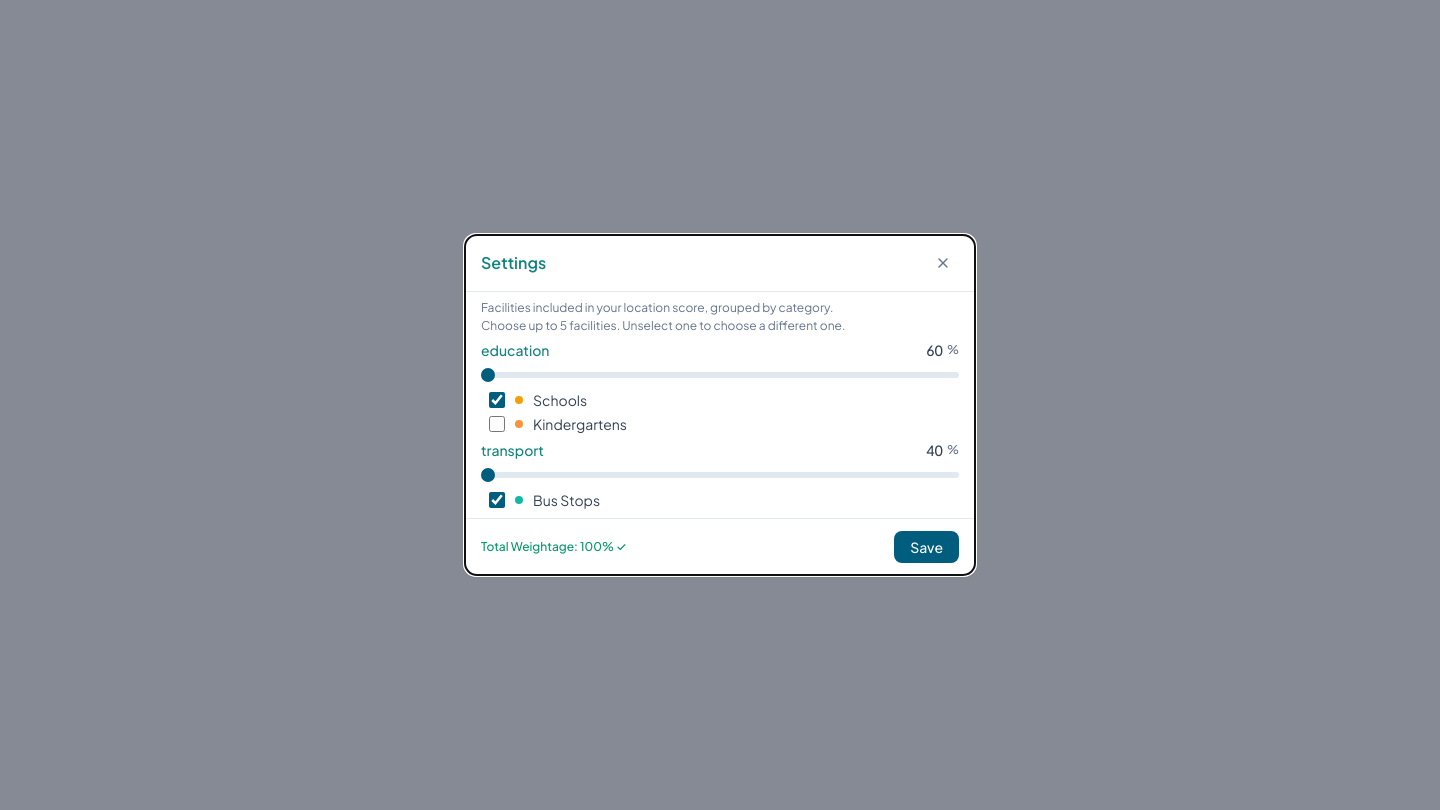
Test case: SettingsModal › Weight sliders › disables Save and shows the total in amber/red when weights don't sum to 100
Set the slider named "education" to "80": (859, 375) [481, 372, 959, 378]
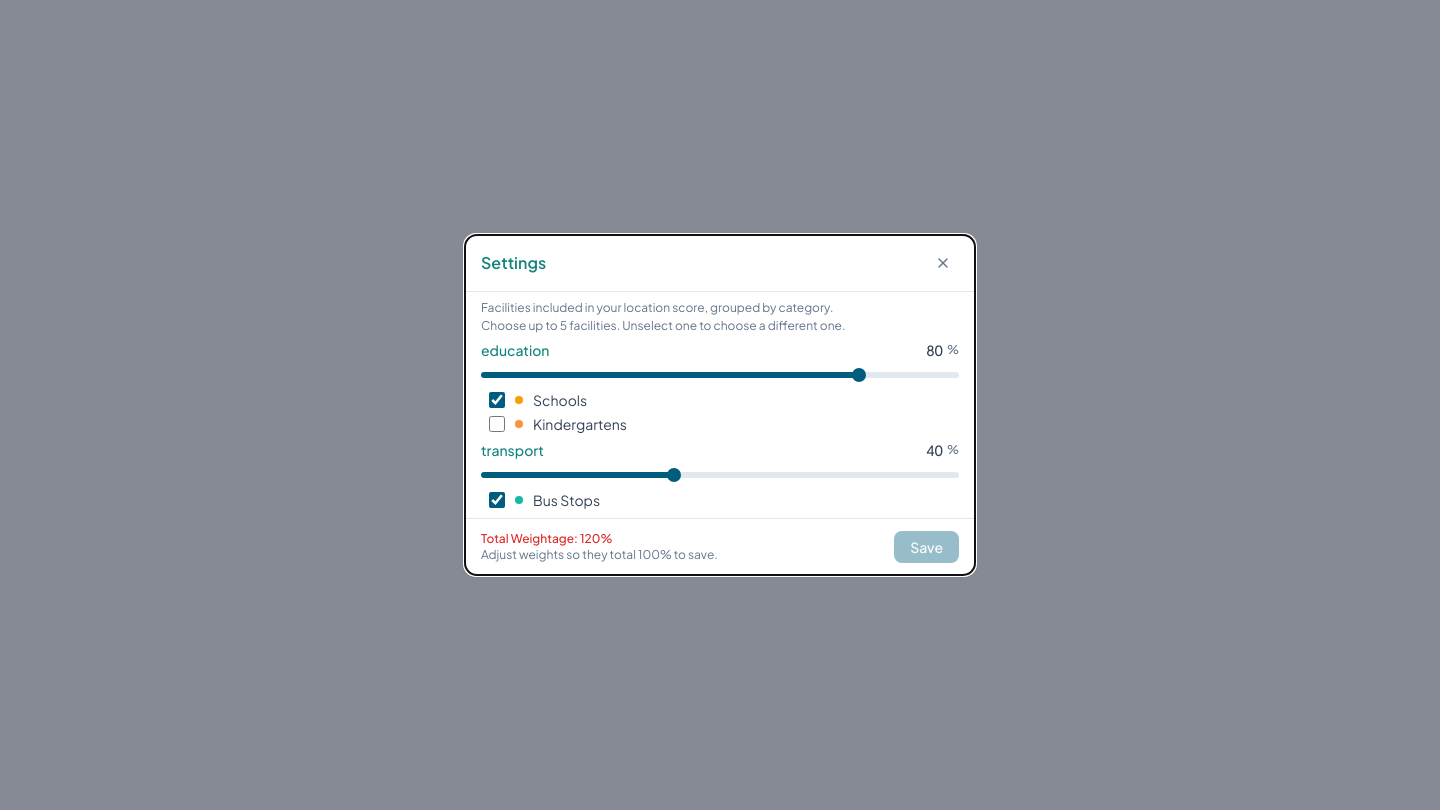
Now the button "Save" is disabled, box [894, 531, 959, 563]
Now the text "Total Weightage: 120%" is shown, box [481, 531, 612, 546]
Now the text "Adjust weights so they total 100% to save." is shown, box [481, 547, 718, 563]
